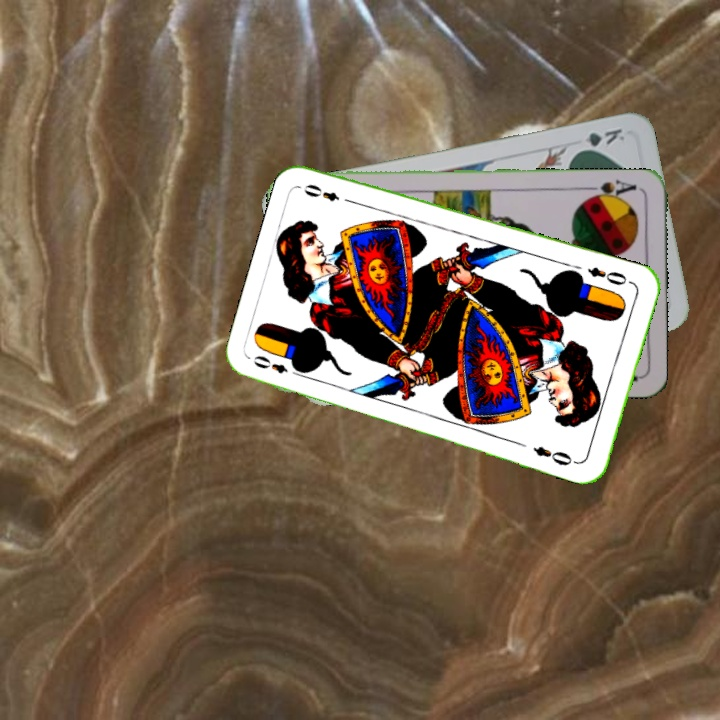EO: (249, 351, 306, 380), (583, 263, 635, 288)
GK: (572, 124, 627, 155)
SA: (582, 176, 639, 203)
